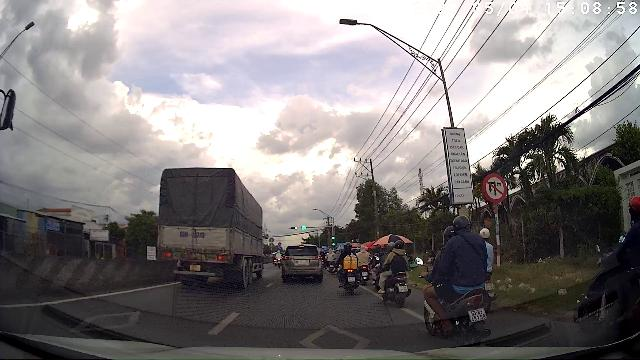124b-cam-oto-quay-dau-xe: (481, 173, 508, 203)
